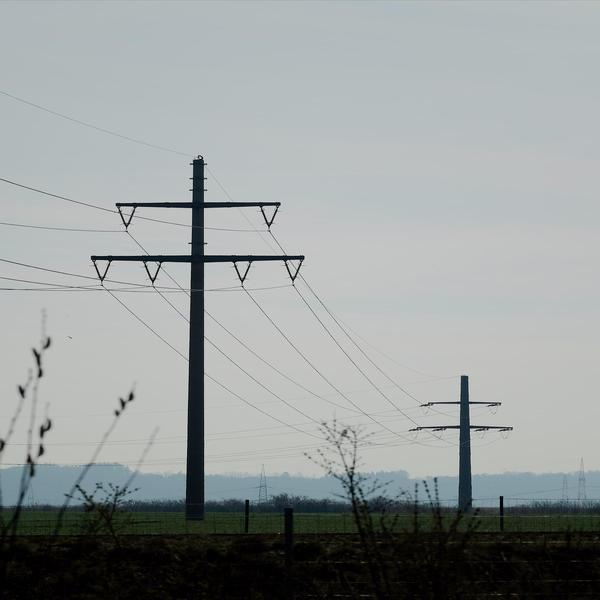utility_pole: (83, 145, 317, 319), (407, 365, 522, 468)
